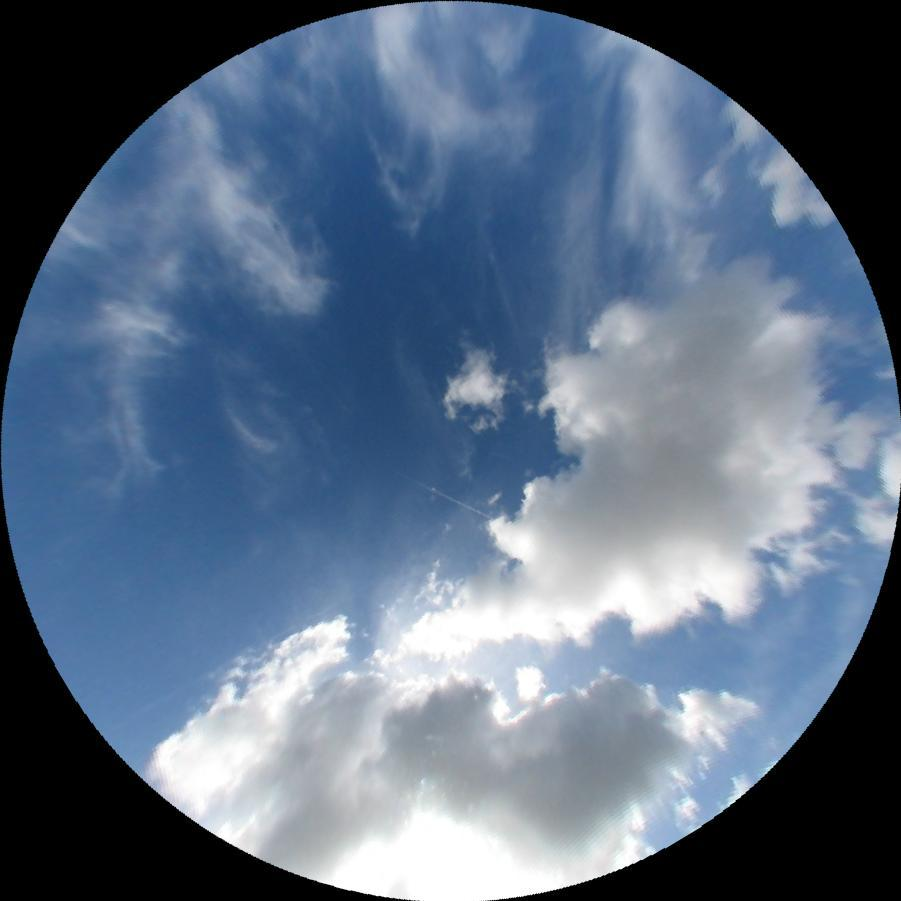contrail young: (404, 475, 492, 519)
